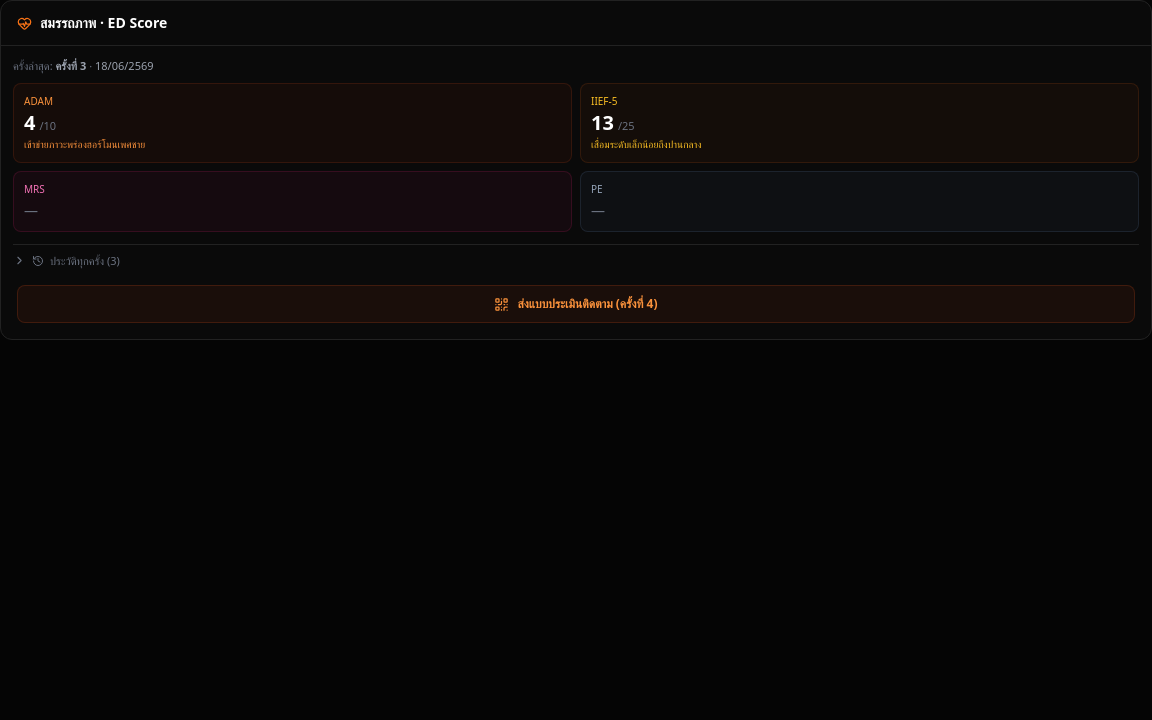
it: ED chip → 2-panel compare modal › CM15 a manual compare pick persists across a type switch (when the round has both types)
The width and height of the screenshot is (1152, 720).
Click the button with test id "ed-chip-adam". click: (85, 144)
box: top-left (13, 82), bottom-right (572, 162)
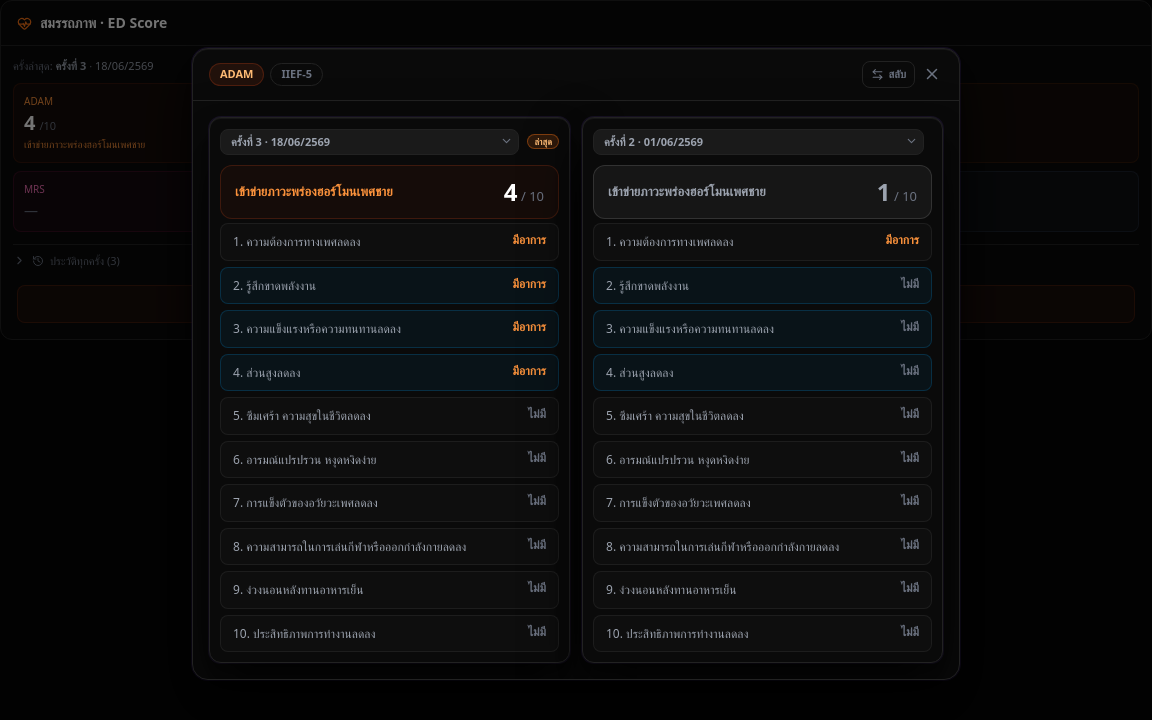
Select "ครั้งที่ 1 · 13/05/2569 · รับเข้า" in the dropdown with test id "ed-panel-compare-pick". click: (758, 142)
box: top-left (593, 128), bottom-right (924, 155)
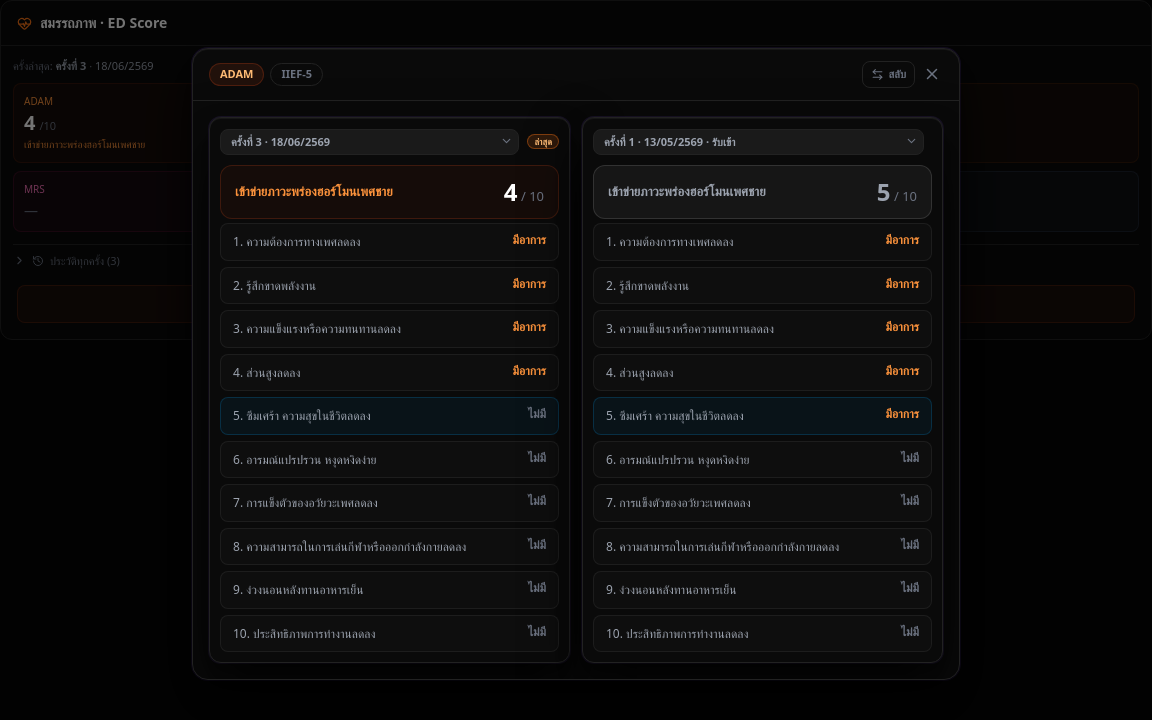
Click the tab with test id "ed-tab-iief". click: (297, 74)
box: top-left (270, 63), bottom-right (323, 86)
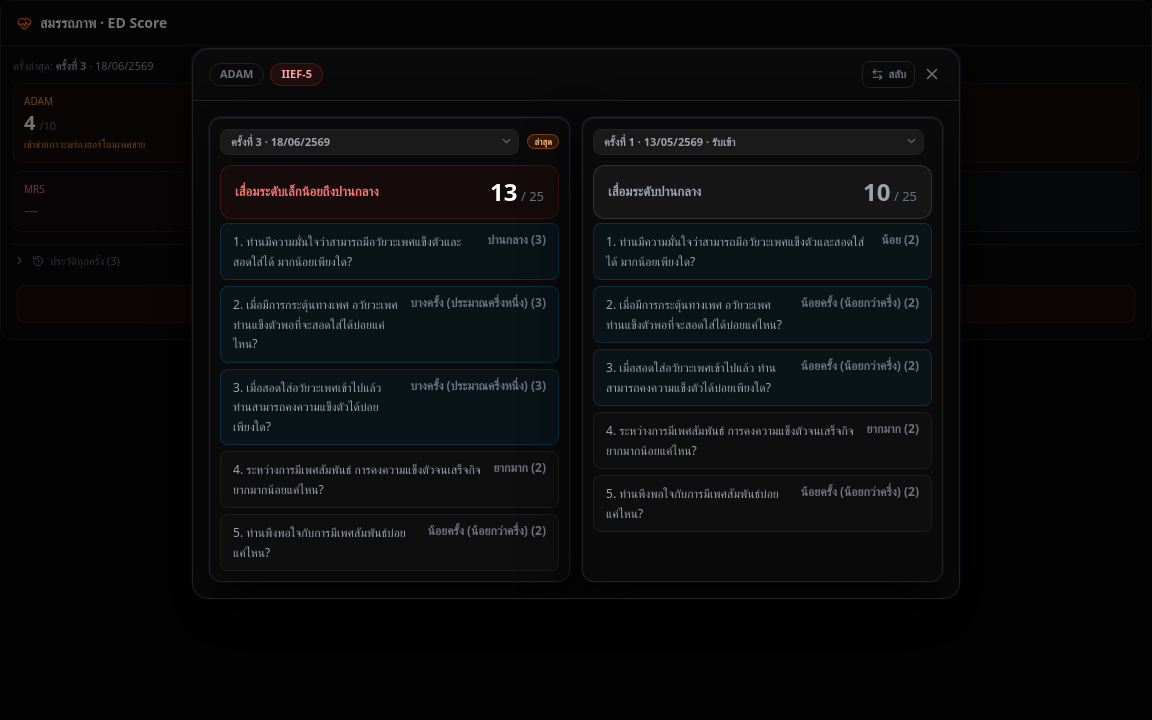
Now the text "10" is shown, box top-left (863, 175), bottom-right (890, 208)
